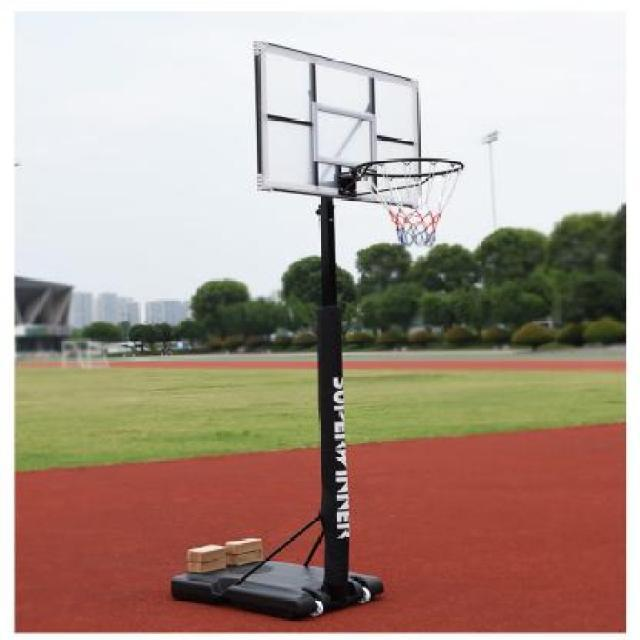rim: (354, 158, 468, 248)
